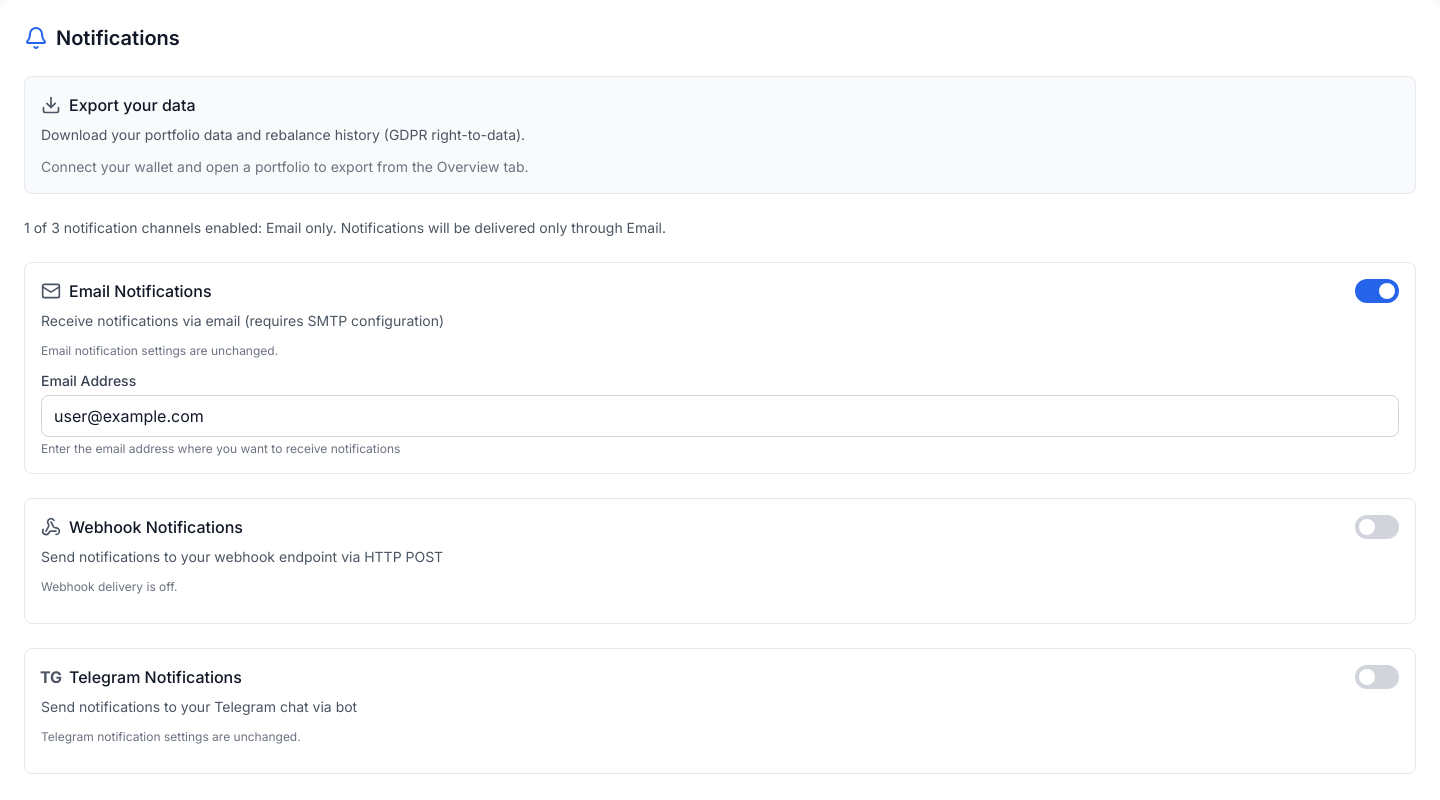
Test: NotificationPreferences › allows saving with all notification channels disabled and disables test delivery
Expected: the heading "Notifications" is shown, [56, 24, 180, 52]
Expected: the text "1 of 3 notification channels enabled: Email only" is shown, [24, 219, 666, 236]
Click the switch named "email notifications": (1377, 291) [1355, 279, 1399, 303]
(page scrolled)
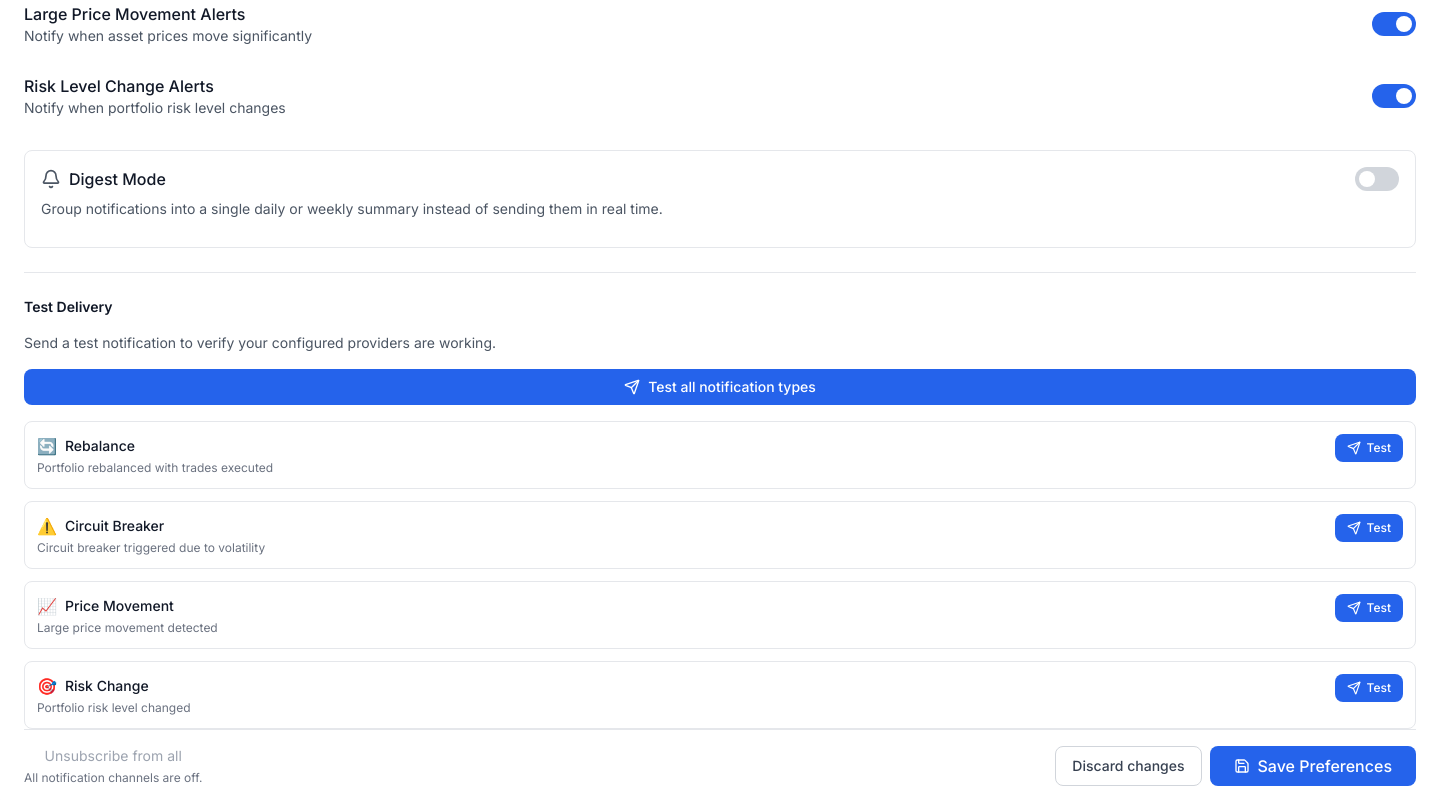
Click the button "Save Preferences": (1313, 766) [1210, 746, 1416, 786]
(page scrolled)
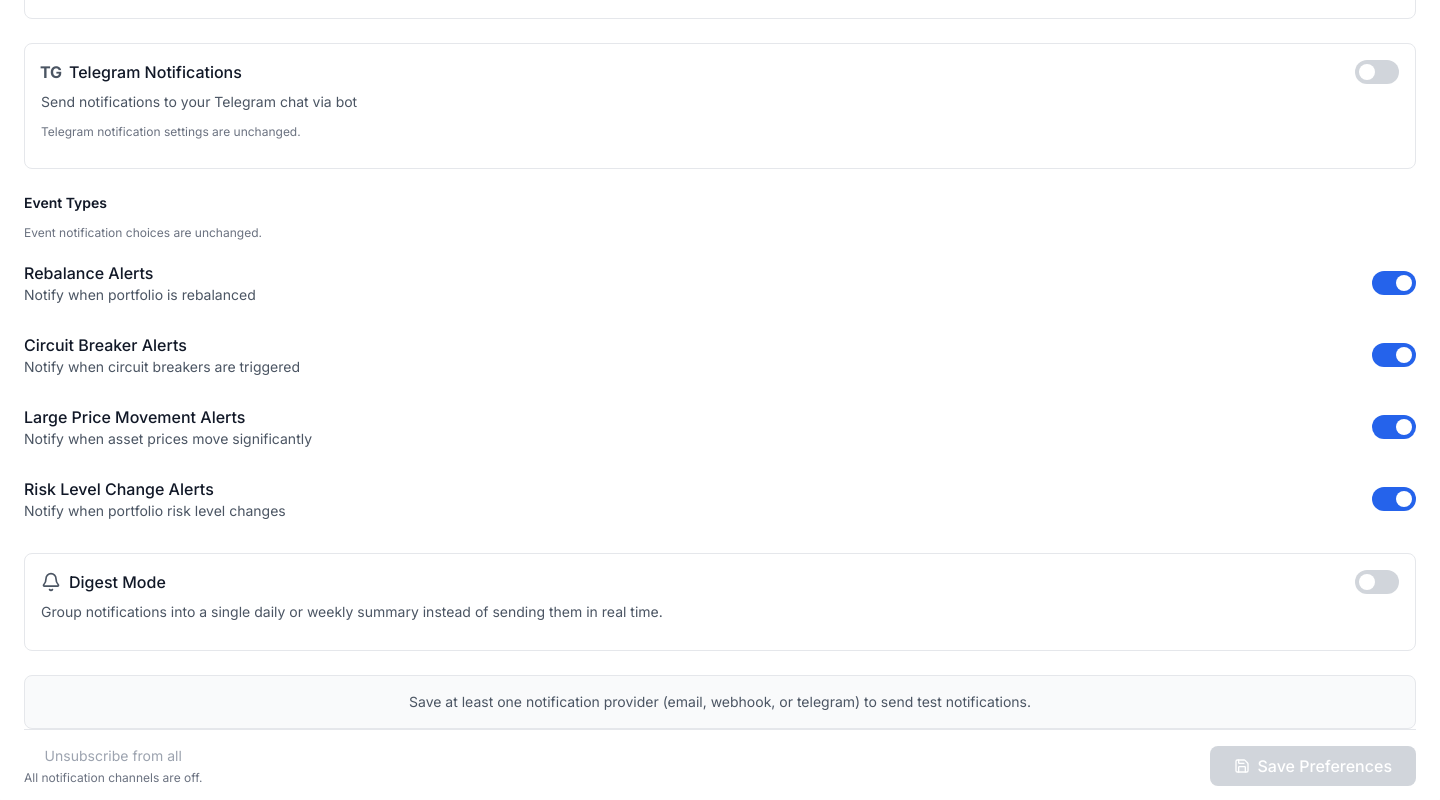
Result: the text "Save at least one notification provider" is shown at [409, 693, 1031, 710]
